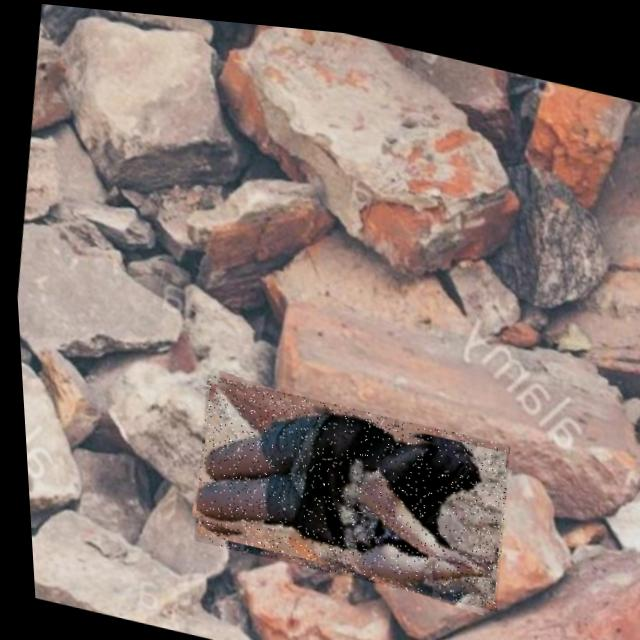Person in Rubble: (180, 369, 513, 604)
